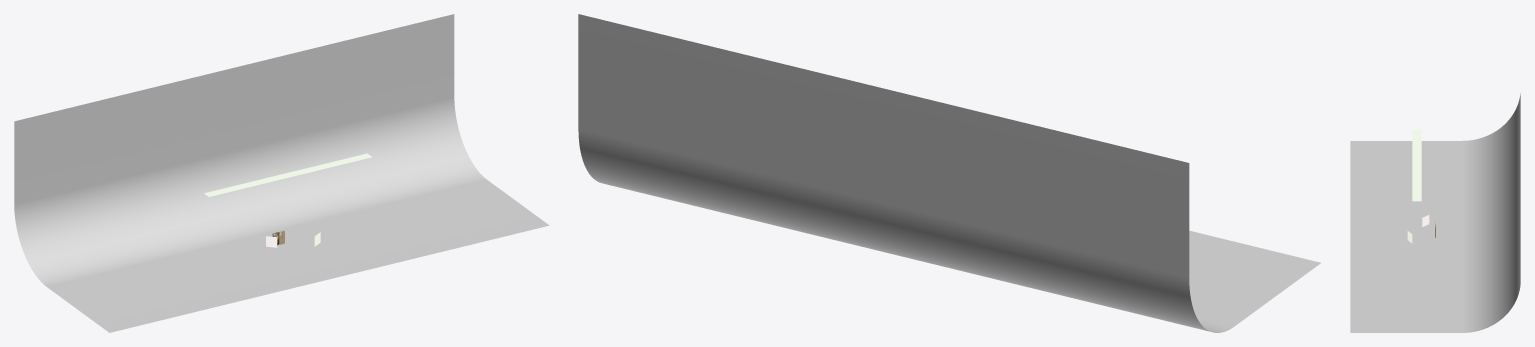
File: iphone_16.glb
The picture shows the model from 3 angles, left to right: view 1: azimuth 30°, elevation 25°; view 2: azimuth 150°, elevation 25°; view 3: azimuth 270°, elevation 25°; orthographic projection. The views are drawn at different scales.
Visible parts, largest first — view 1: Plane, Plane.004; view 2: Plane; view 3: Plane, Plane.004.
Part boxes in pixels (left/top/right/bottom): Plane: left=14, top=14, right=549, bottom=332; Plane.004: left=204, top=153, right=372, bottom=196; Plane: left=578, top=14, right=1320, bottom=332; Plane: left=1350, top=93, right=1520, bottom=332; Plane.004: left=1412, top=130, right=1421, bottom=201.
Bounding box in the file's own units: 370 × 114 × 139.
37 materials, 5 textured.
